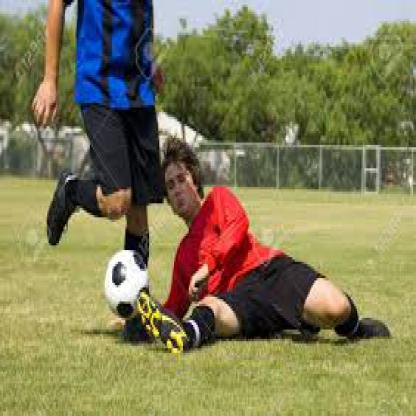Fall_Down: (138, 144, 390, 360)
